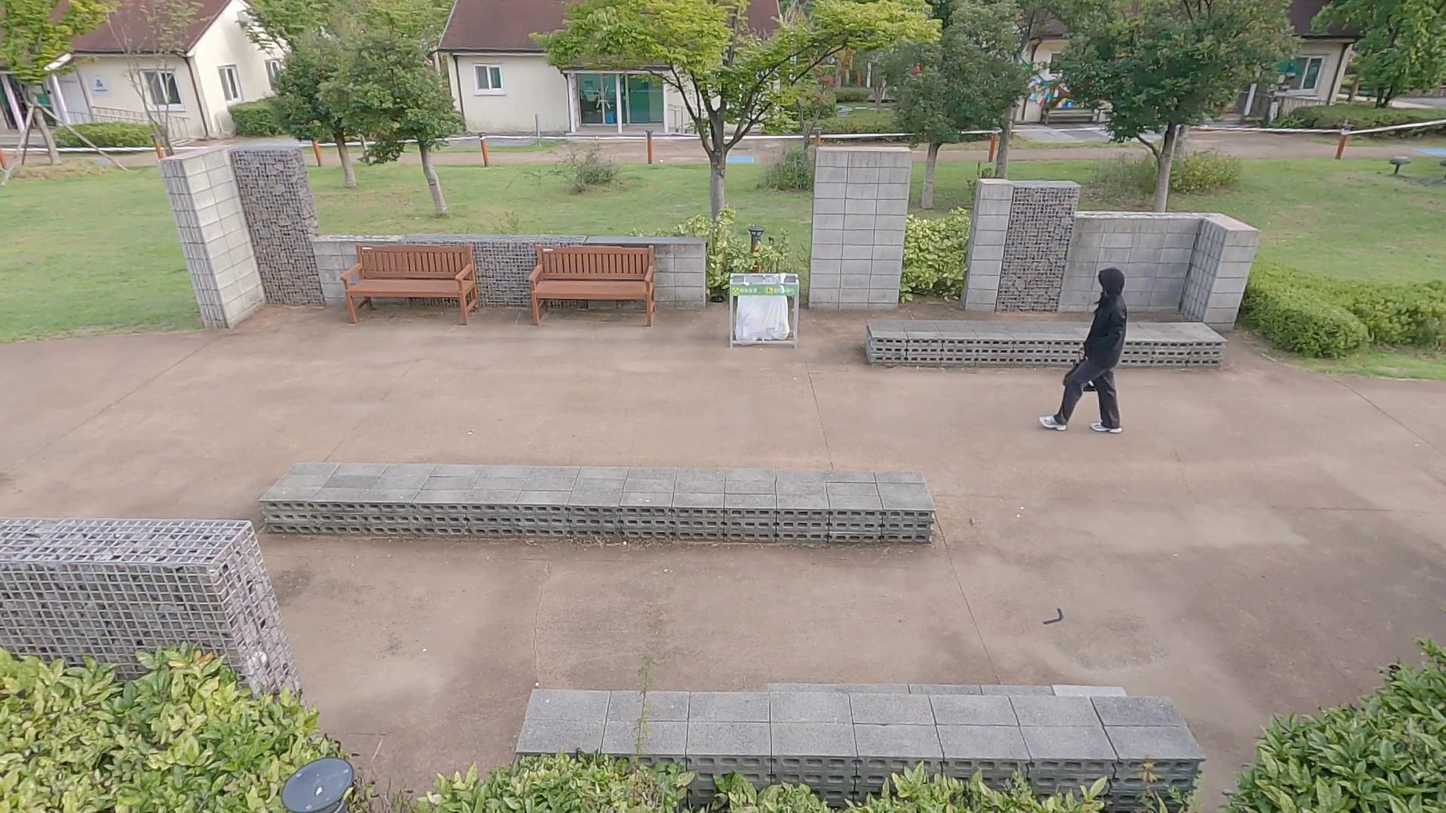person: (1042, 267, 1133, 435)
trash: (1060, 355, 1102, 391)
